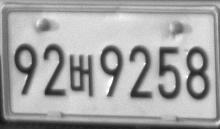2: (42, 42, 66, 96), (128, 44, 152, 98)
5: (157, 45, 181, 100)
8: (185, 45, 210, 100)
9: (13, 42, 37, 96), (99, 44, 123, 97)
버: (69, 54, 93, 97)
